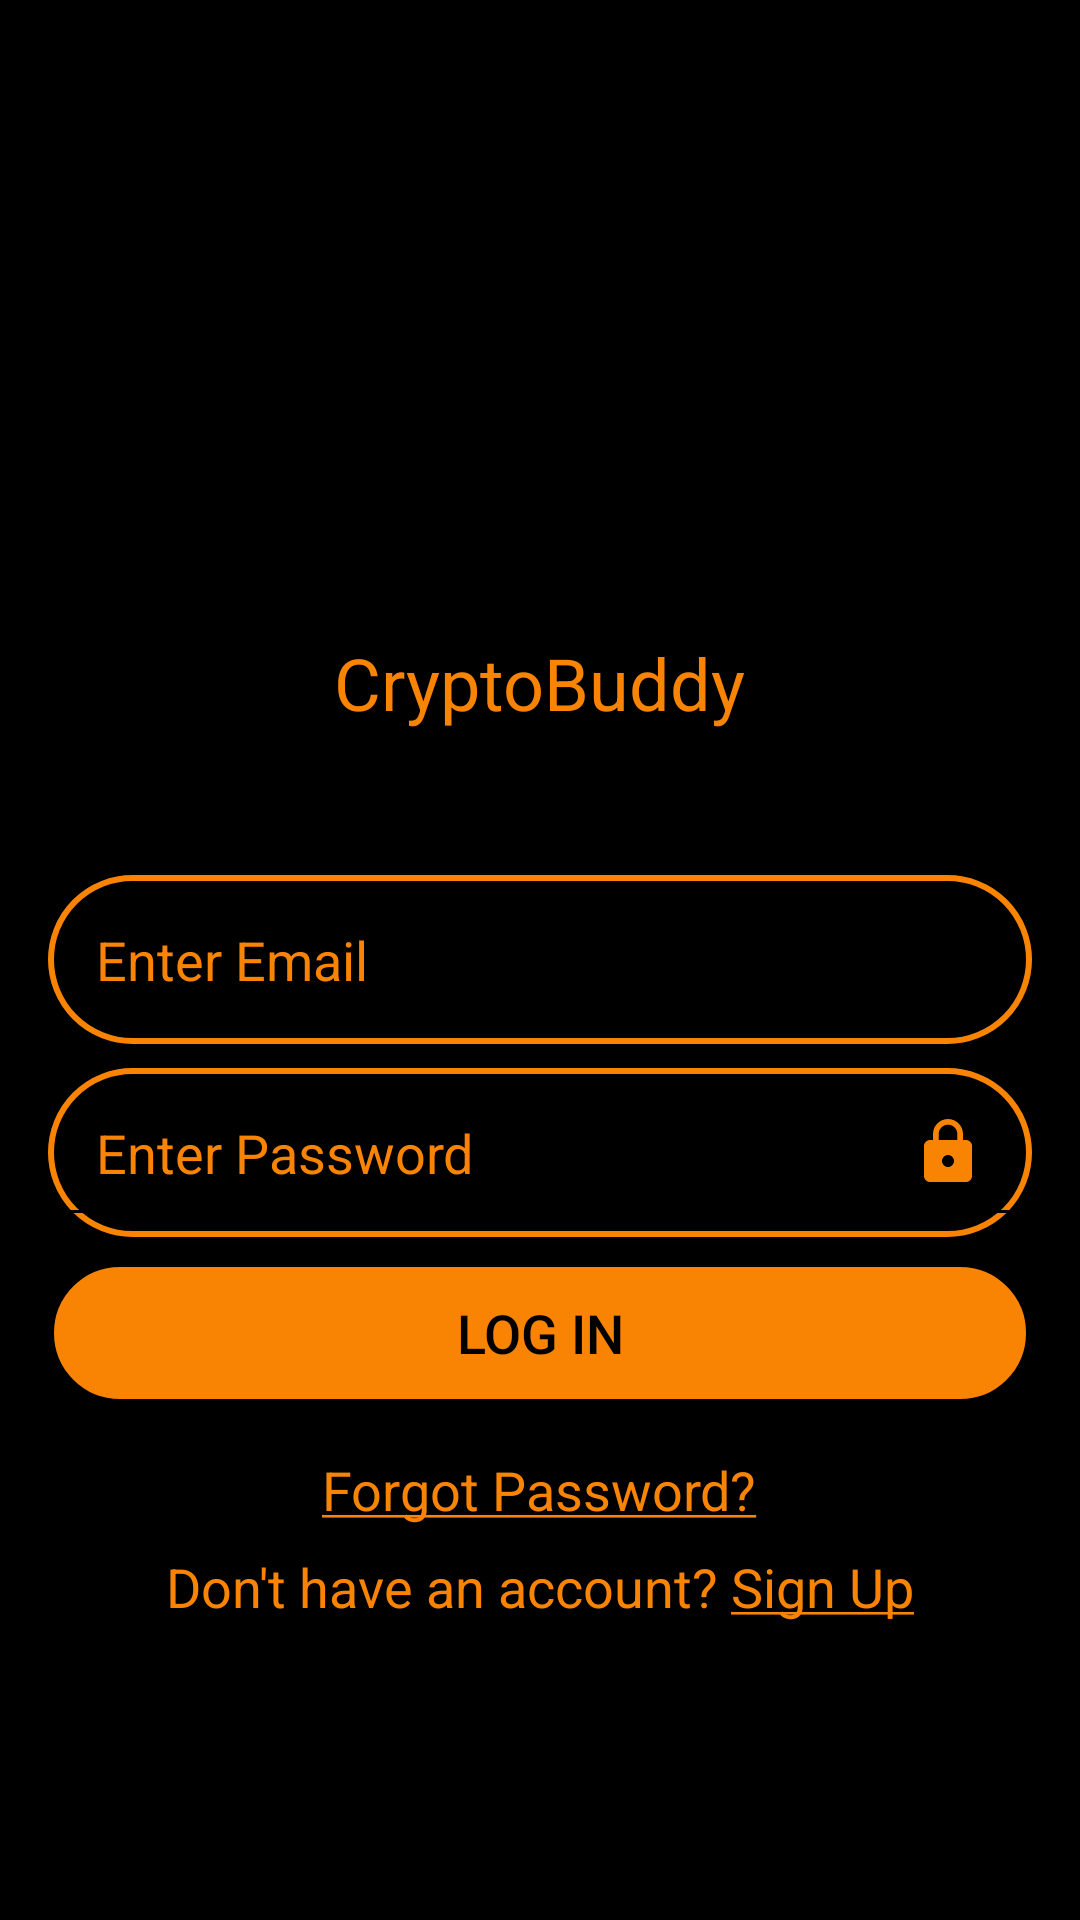

Where icons sit on this 1080x1920 app screen, as Rect(x1, y1, x2, y2):
lock: Rect(924, 1119, 972, 1182)
